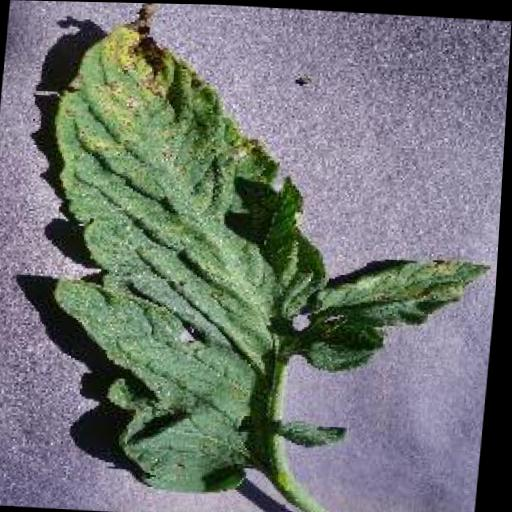Septoria: (24, 1, 512, 505)
